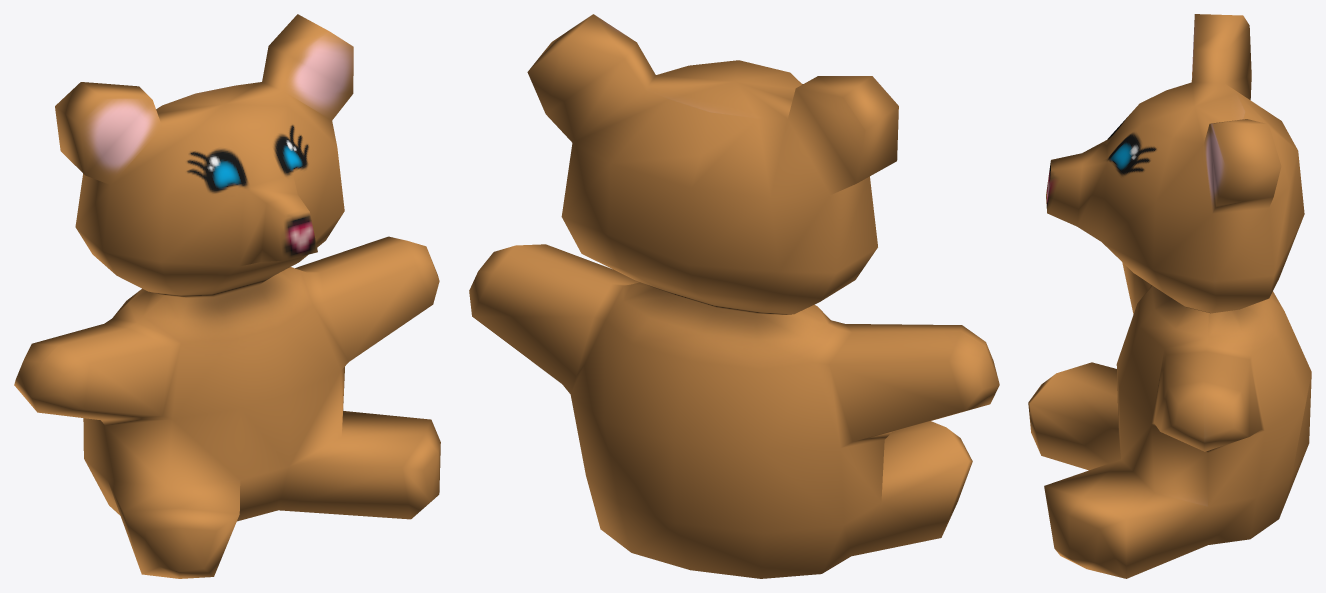
Rendered from Teddy_Bear_Model.obj.
3 renders of one model, left to right at view 1: azimuth 30°, elevation 25°; view 2: azimuth 150°, elevation 25°; view 3: azimuth 270°, elevation 25°, orthographic. The views are drawn at different scales.
Visible parts, largest first — view 1: Teddy_Bear; view 2: Teddy_Bear; view 3: Teddy_Bear.
Boxes of the visible parts, x1,y1,x2,y2 form: Teddy_Bear: (14, 14, 440, 578); Teddy_Bear: (469, 14, 999, 578); Teddy_Bear: (1028, 14, 1311, 578).
Size of the model in its own units: 118 by 116 by 67.96.
1 material, 1 textured.
